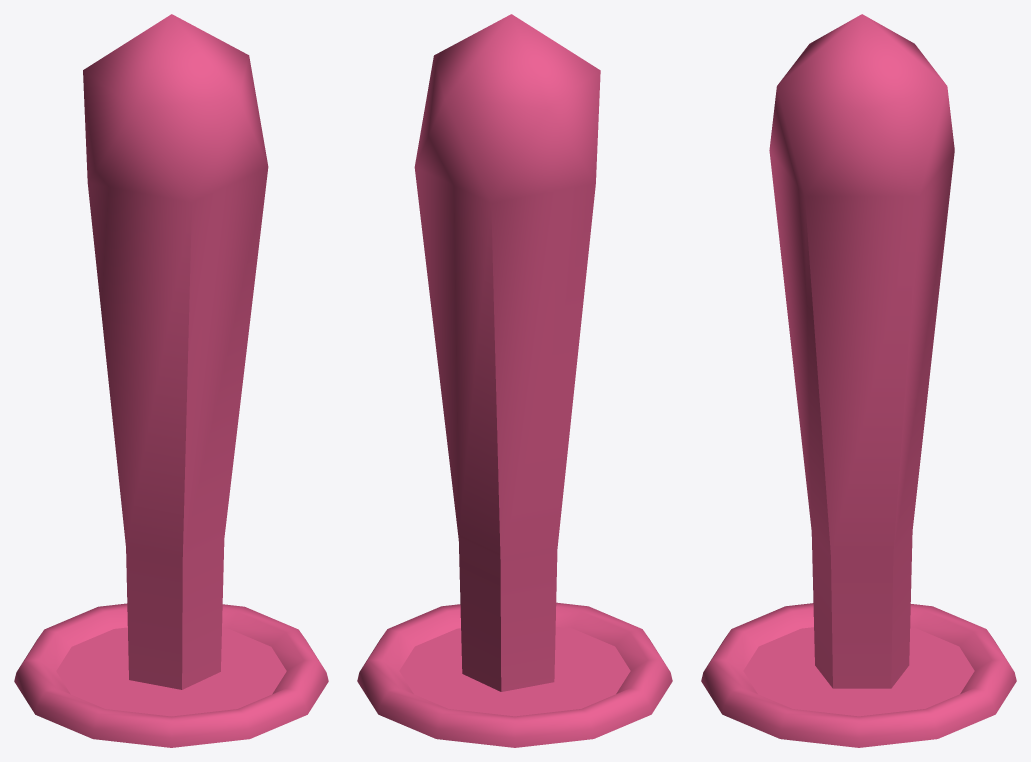
The model's file is Switch2.fbx.
3 views of the same model, side by side, from view 1: azimuth 30°, elevation 25°; view 2: azimuth 150°, elevation 25°; view 3: azimuth 270°, elevation 25° (orthographic).
Visible parts, largest first — view 1: Switch2handle, Switch2Base; view 2: Switch2handle, Switch2Base; view 3: Switch2handle, Switch2Base.
Part boxes in pixels (left/top/right/bottom): Switch2handle: left=83, top=14, right=268, bottom=689; Switch2Base: left=14, top=603, right=328, bottom=747; Switch2handle: left=414, top=14, right=600, bottom=691; Switch2Base: left=357, top=602, right=672, bottom=747; Switch2handle: left=769, top=14, right=954, bottom=688; Switch2Base: left=701, top=603, right=1016, bottom=747.
Size of the model in its own units: 1.38 by 3.23 by 1.38.
